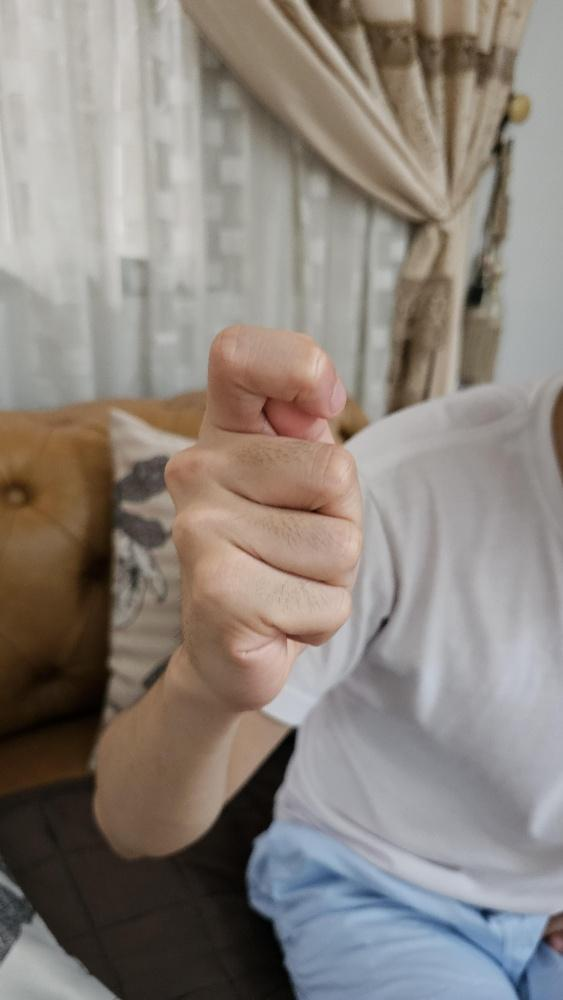t: (160, 321, 365, 714)
